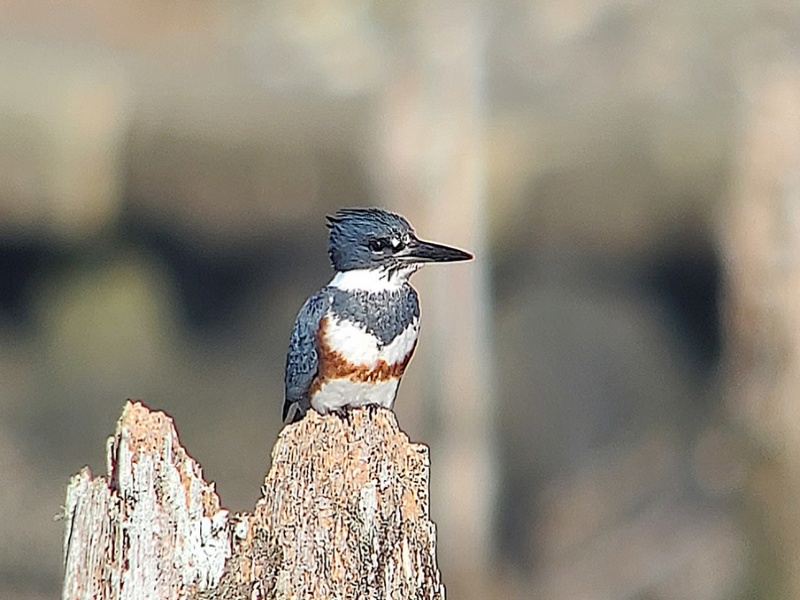kingfisher: (277, 202, 483, 427)
